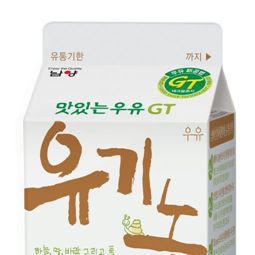milk: (22, 21, 236, 255)
